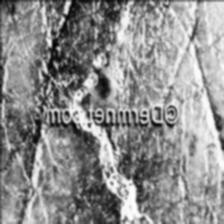Toxin: (95, 132, 135, 224), (56, 56, 112, 106)
